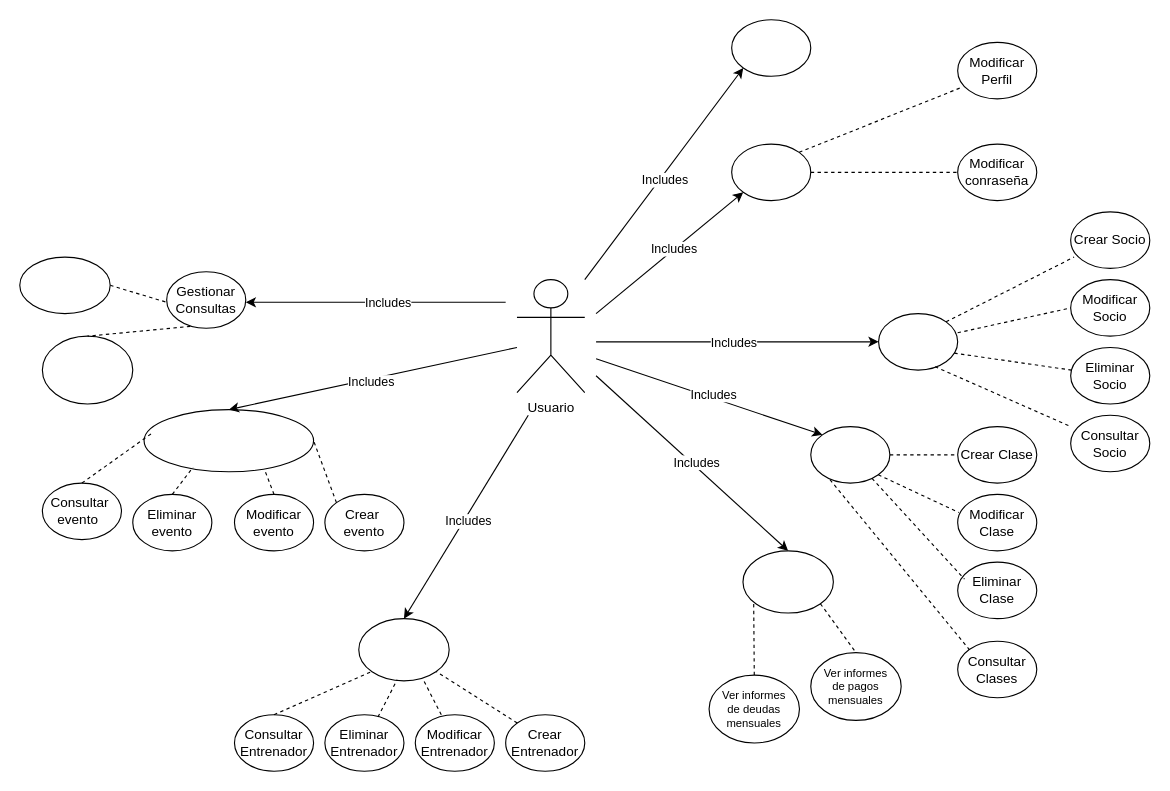
Image size: 1170x791. Some labels were removed from this diagram. Each missing label, with the centre of its shape:
"Gestion de eventos(calendario)" belongs at [228,440].
"Gestión de Clases" belongs at [850,454].
"Gestión de Entrenadores" belongs at [403,649].
"Gestión de Socios" belongs at [917,341].
"Gestión Financiera" belongs at [787,581].
"Login Usuario" belongs at [771,172].
"Registrarse" belongs at [771,47].
"Responder consultas" belongs at [87,369].
"Ver consultas" belongs at [64,285].
